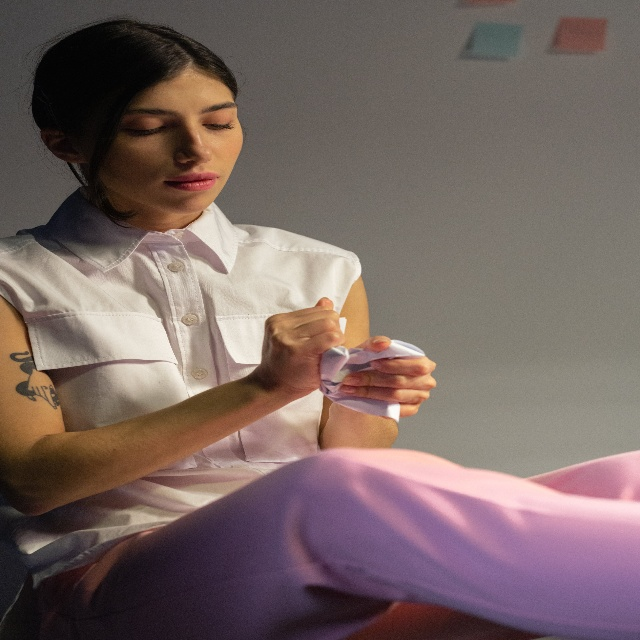Sin_guantes: (260, 294, 346, 400), (338, 335, 437, 420)
